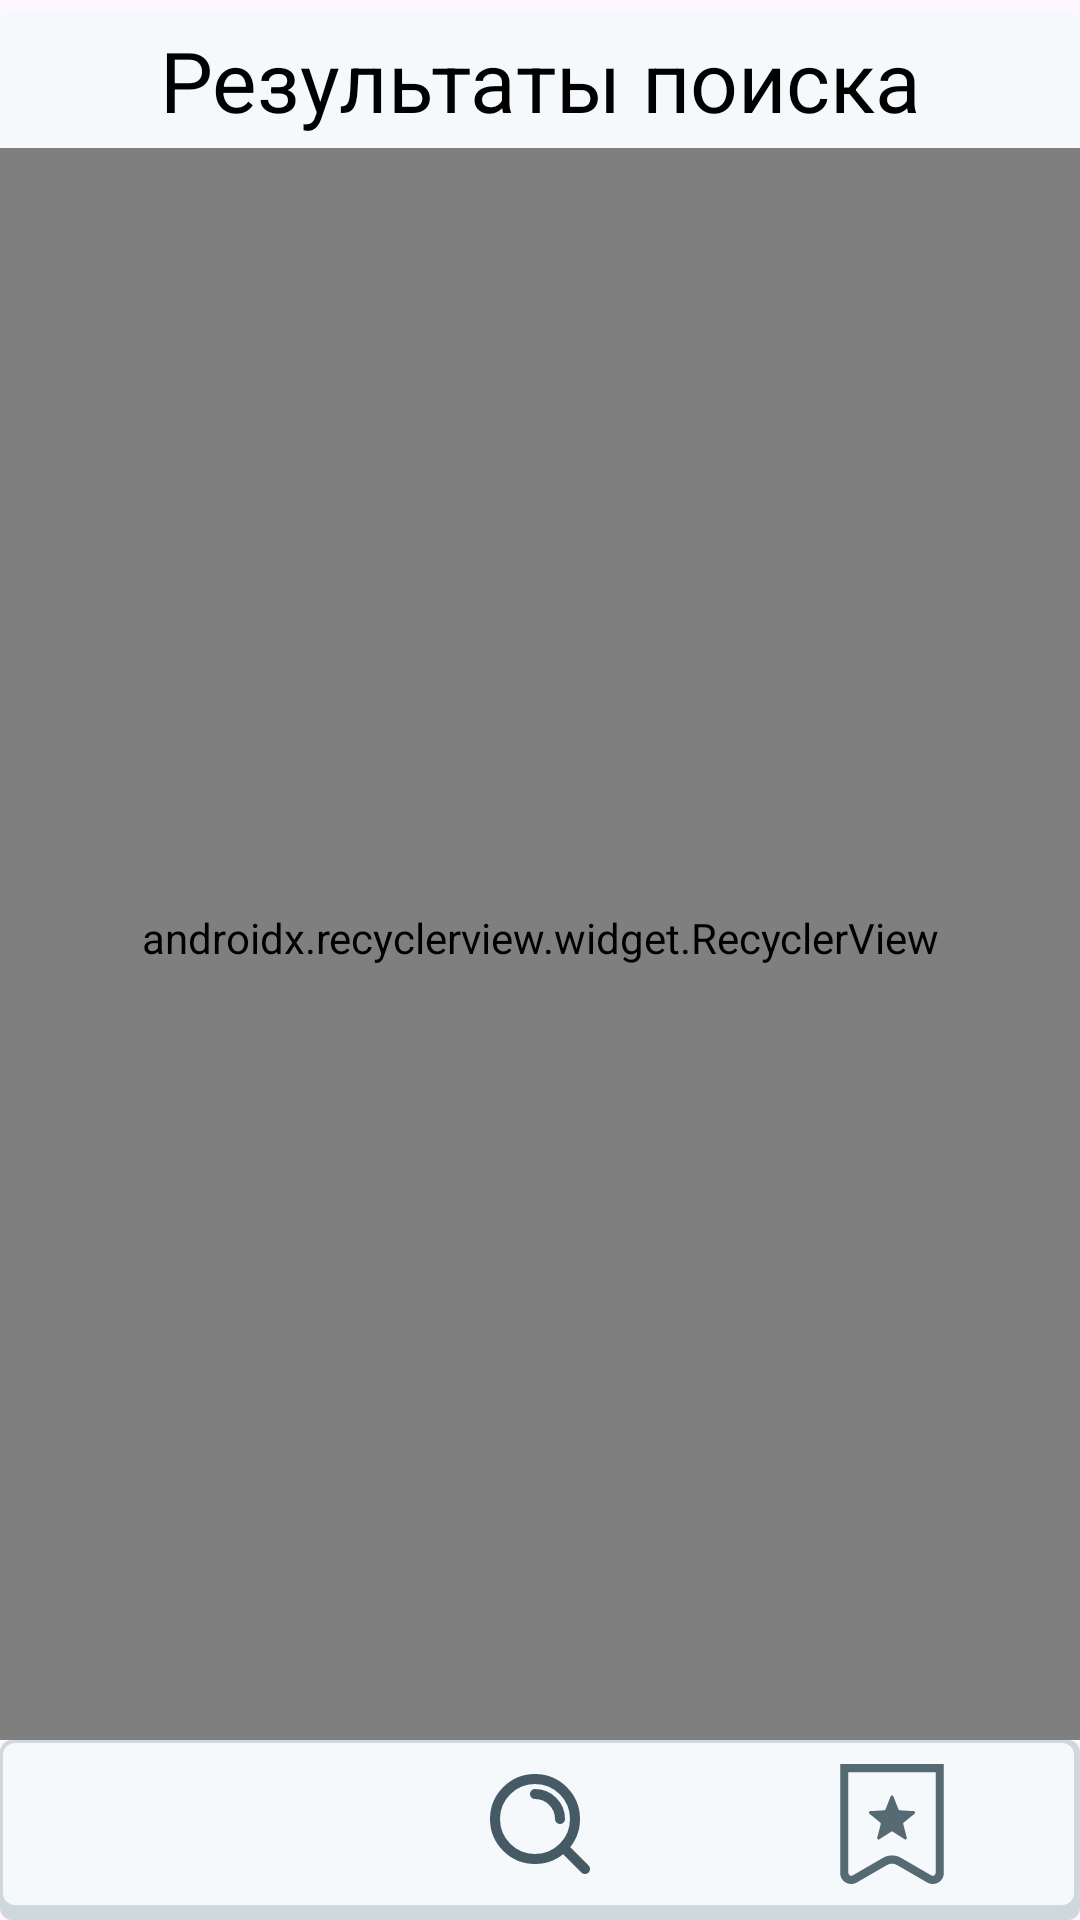

Where to tap for icons on this 1080w x 1920h app screen, as [x,y]:
favorite: [892,1824]
search: [540,1824]
